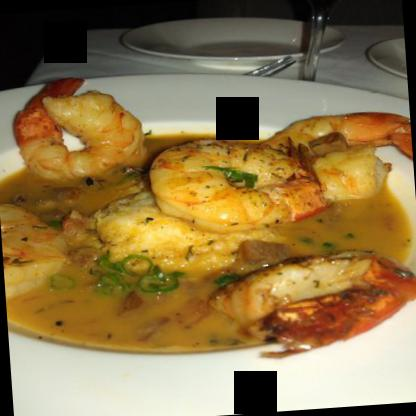shrimp: (151, 130, 335, 236), (10, 74, 152, 190), (267, 108, 415, 208)
